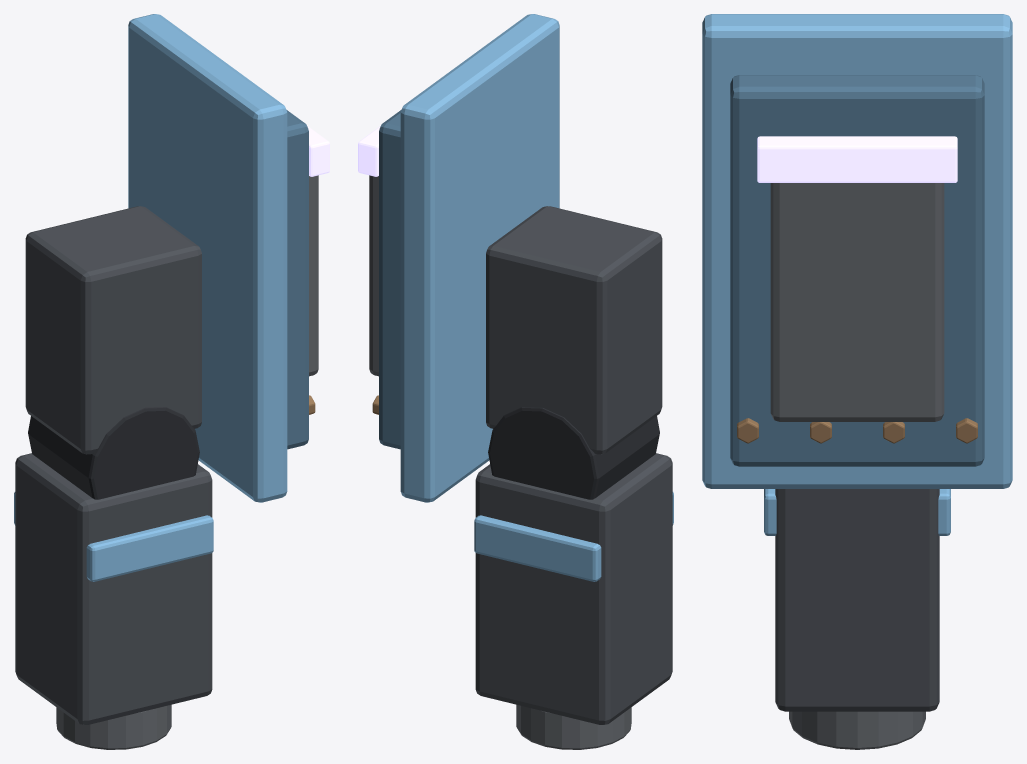
The model's file is module_arm_shield.fbx.
3 renders of one model, left to right at view 1: azimuth 30°, elevation 25°; view 2: azimuth 150°, elevation 25°; view 3: azimuth 270°, elevation 25°, orthographic. The views are drawn at different scales.
Parts seen in each view (by area): view 1: SM_Module_ArmShield; view 2: SM_Module_ArmShield; view 3: SM_Module_ArmShield.
Boxes of the visible parts, x1,y1,x2,y2 form: SM_Module_ArmShield: (14,14,329,749); SM_Module_ArmShield: (358,14,673,749); SM_Module_ArmShield: (702,14,1012,749).
Size of what is drawn, in the model's own units: 36 by 91.5 by 34.
